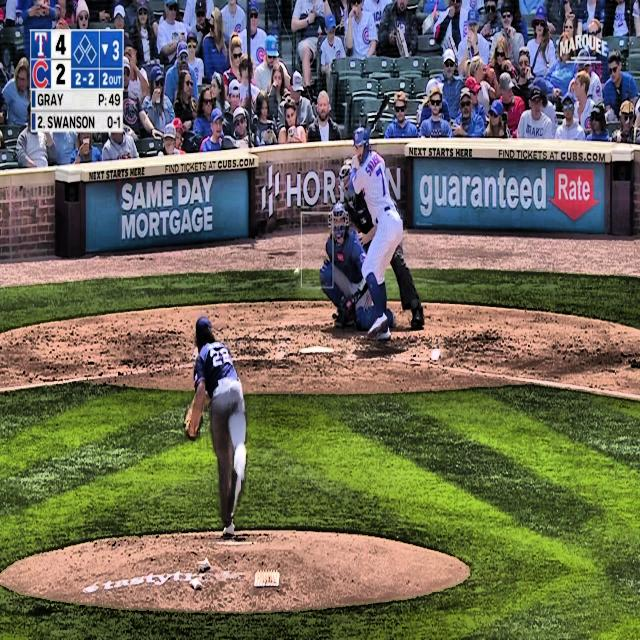baseball: (293, 266, 299, 278)
